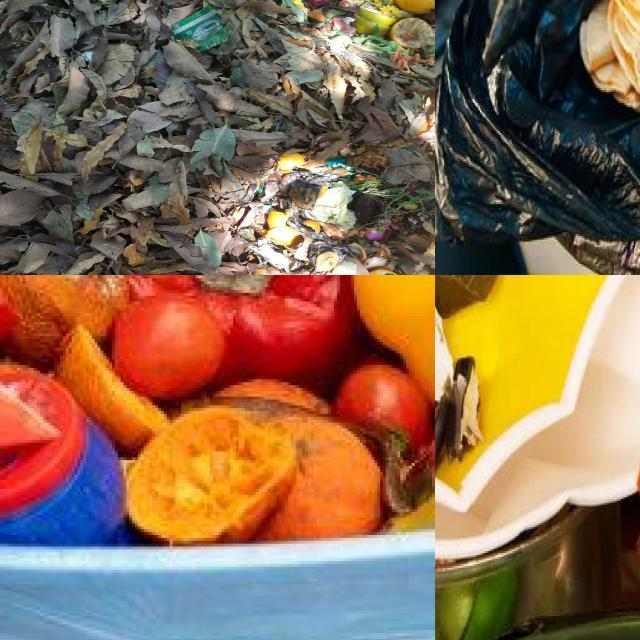Garbage: (0, 275, 435, 544), (435, 275, 640, 640), (435, 0, 640, 275)
Metal: (435, 505, 619, 640)
Plastic_bottle: (0, 365, 124, 544)
Plastic_wraper: (171, 6, 231, 52), (326, 158, 351, 170)
contaminated_waste: (435, 275, 640, 559)
